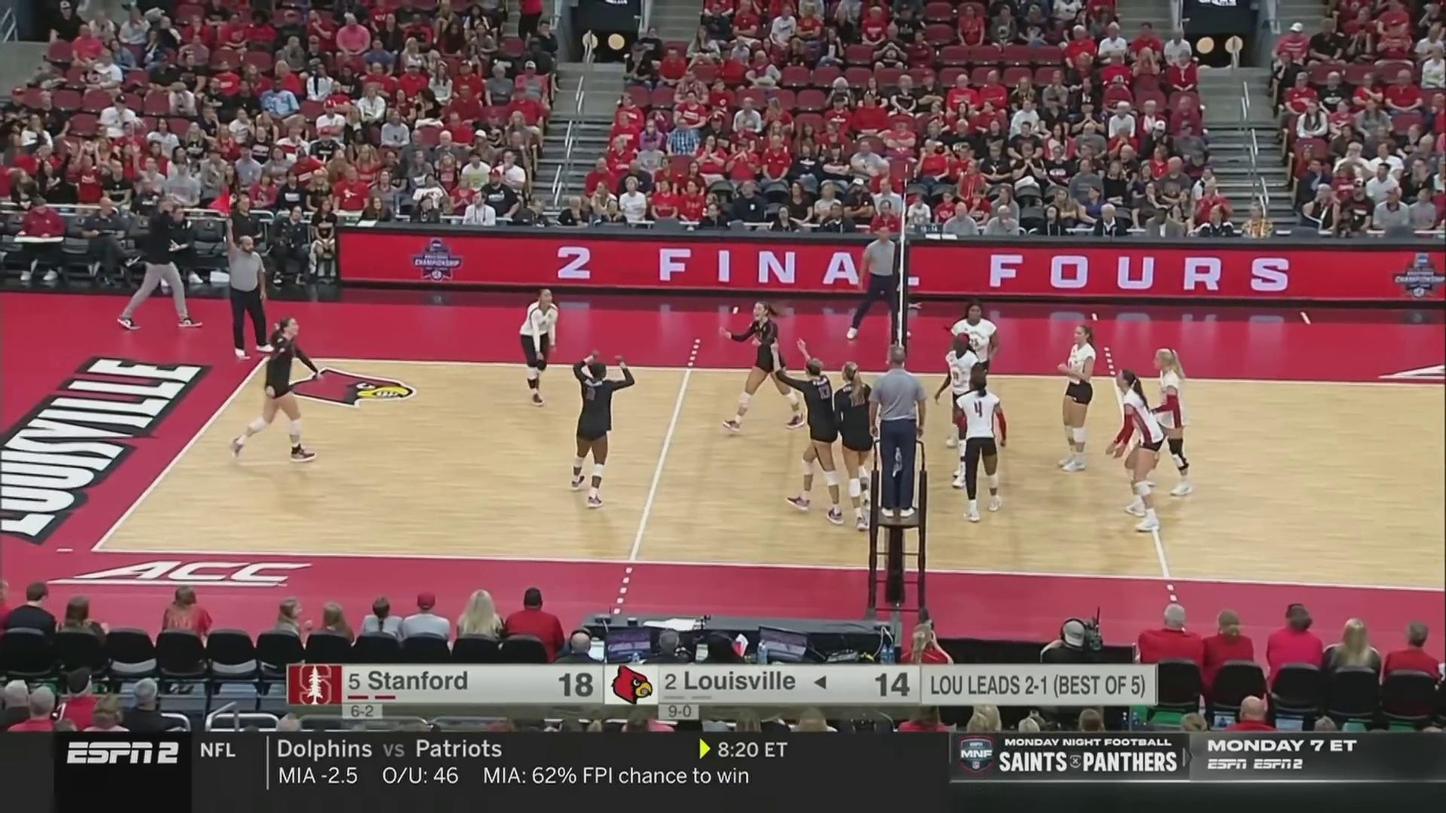player: (234, 319, 315, 467), (569, 349, 634, 507), (724, 300, 802, 430), (785, 361, 846, 523), (949, 376, 1010, 527), (1107, 369, 1163, 527), (944, 303, 1000, 448), (1145, 351, 1196, 504), (936, 332, 986, 488), (831, 359, 874, 531), (1058, 322, 1097, 475), (518, 291, 566, 409)
refree: (870, 348, 930, 514), (220, 225, 273, 359), (843, 225, 902, 338)
